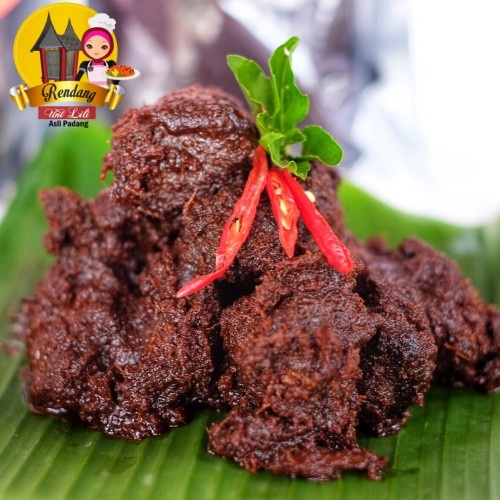rendang: (21, 114, 463, 486)
